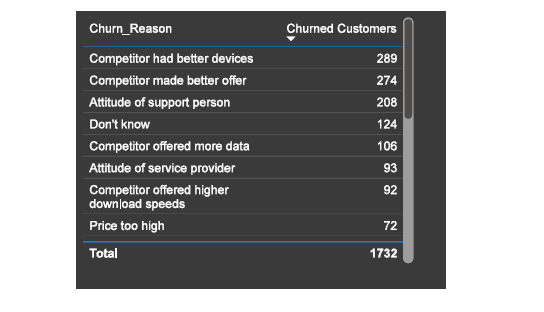

The dashboard page shown, as its layout file describes it:
{"tool":"powerbi","page":{"name":"Tooltip","canvas":[320,240],"ordinal":1},"visuals":[{"type":"tableEx","fields":{"Values":["prod_churn.Churn_Reason","Calculations.Churned Customers"]},"box":[0,0,297,223],"z":0}]}

Visuals, with their boxes on the page's 320x240 design canvas (x1, y1, x2, y2). These are canvas units, not pixel positions in the 544x312 screenshot, which may show the page scaled, cropped or inside an application window:
tableEx - prod_churn.Churn_Reason x Calculations.Churned Customers: [0, 0, 297, 223]
